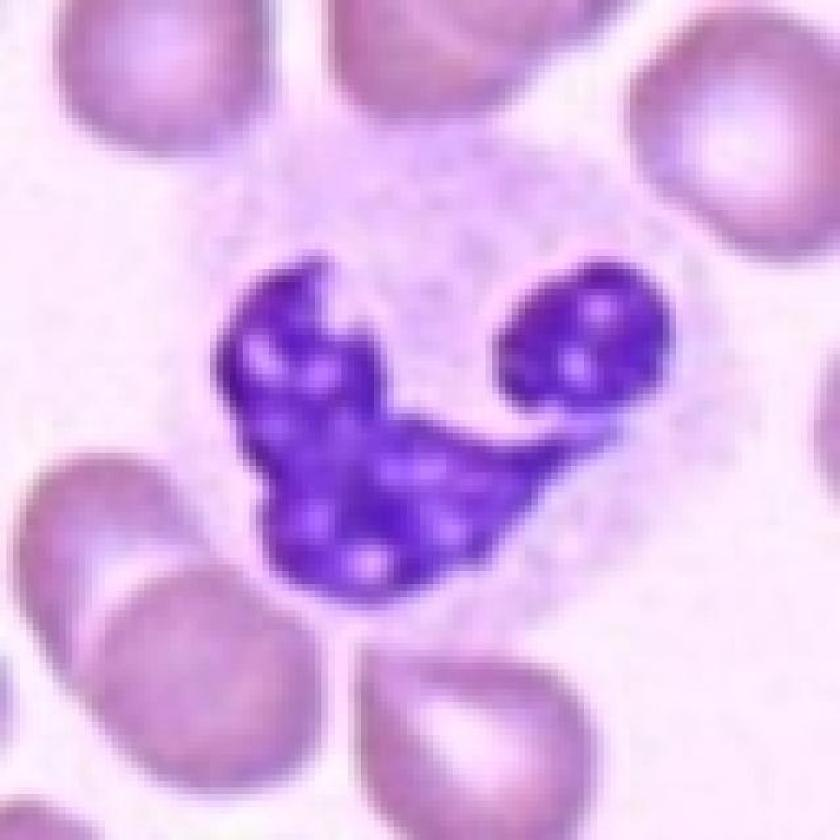neutrophil: (155, 114, 739, 640)
